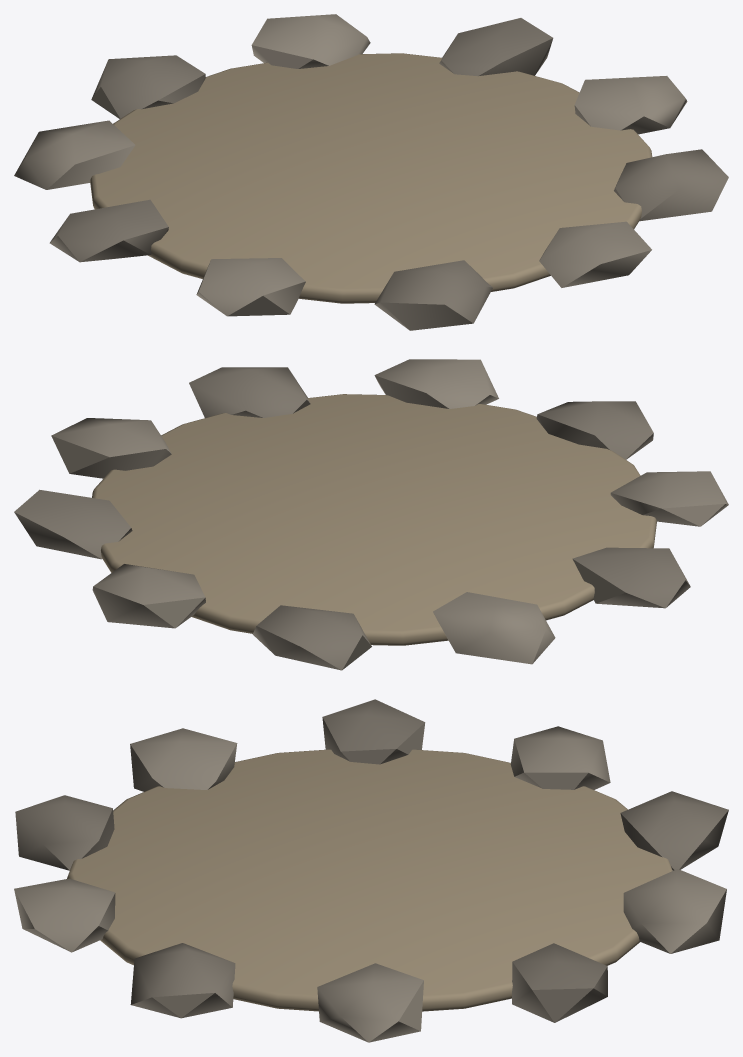
Rendered from pad.fbx.
The picture shows the model from 3 angles, top to bottom: view 1: azimuth 30°, elevation 25°; view 2: azimuth 150°, elevation 25°; view 3: azimuth 270°, elevation 25°; orthographic projection. The views are drawn at different scales.
Visible parts, largest first — view 1: pad; view 2: pad; view 3: pad.
Part boxes in pixels (x1=…): pad: x1=14, y1=14, x2=728, y2=330; pad: x1=14, y1=359, x2=728, y2=670; pad: x1=14, y1=699, x2=728, y2=1042.
Bounding box in the file's own units: 2.66 × 0.2337 × 2.47.
